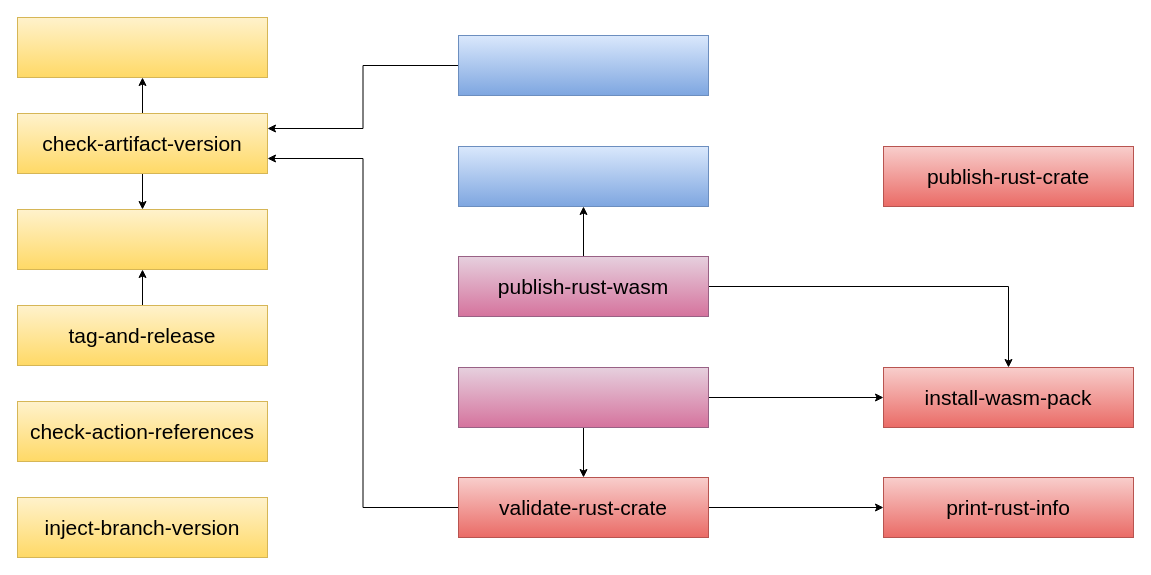
Image size: 1151x575. Some labels were removed from this diagram. Here are the shapes that lost their labels. From the top down, the centre of each, then its label:
point 142,47: detect-project-tech
point 583,65: validate-npm-package
point 583,176: publish-npm-package
point 142,239: detect-branch-version
point 583,397: validate-rust-wasm
